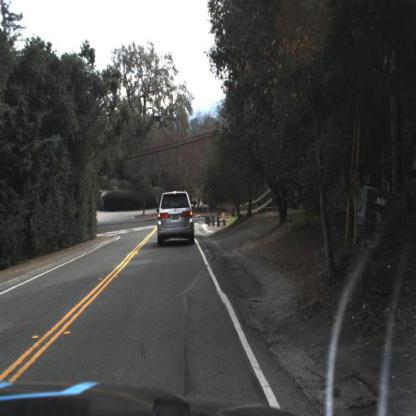car: (155, 189, 195, 250)
